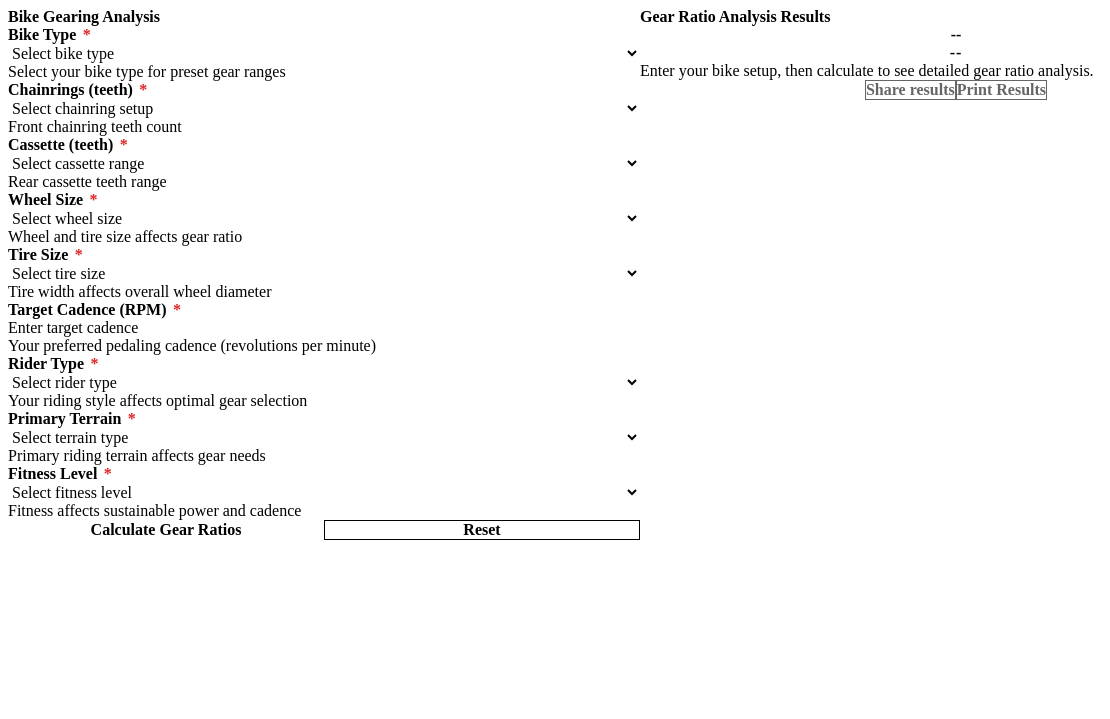
Test: CyclingGearRatioCalculator › validates with the source messages before calculating
Click the button "Calculate Gear Ratios". click: (166, 530)
box: [8,520,324,540]
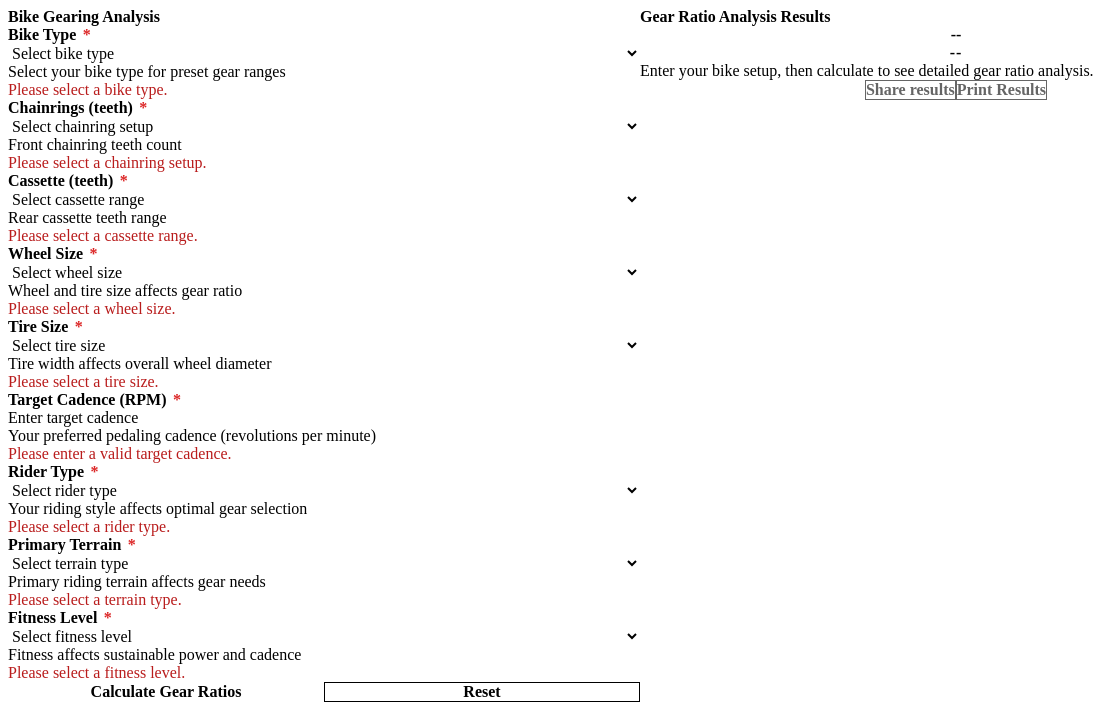
Expected: the text "Please select a bike type." is shown, [8,81,168,98]
Expected: the text "Please select a rider type." is shown, [8,518,170,535]
Expected: the text "Please select a terrain type." is shown, [8,591,182,608]
